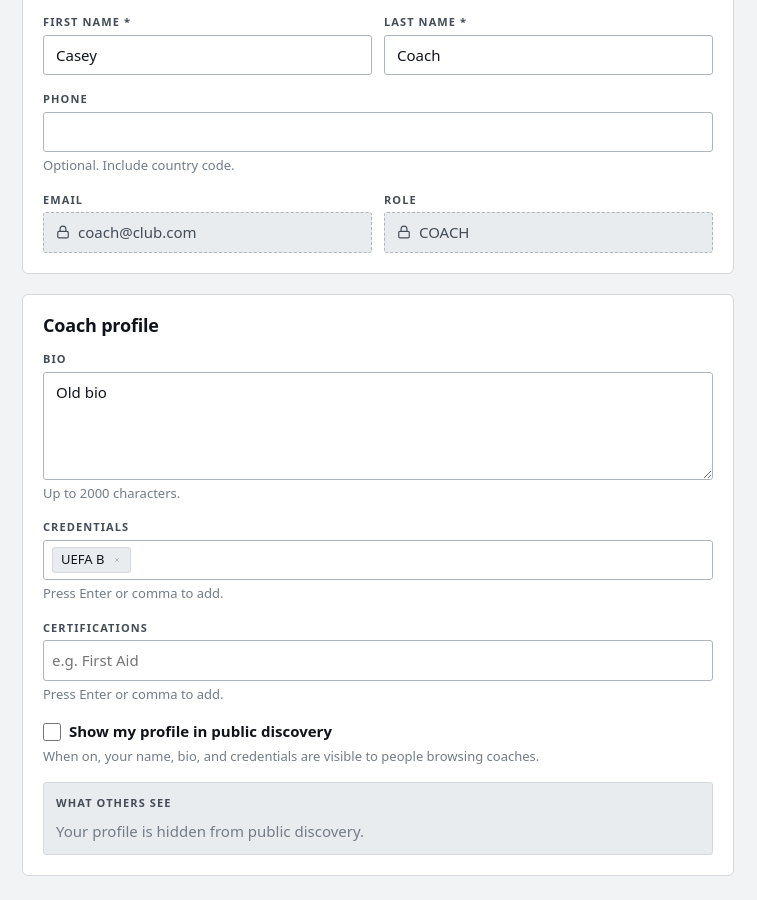
ProfileSettings (FR-038 role-shaped, FR-032 coach visibility) › persists the coach public-visibility toggle (FR-032)
(page scrolled)
Click the checkbox labelled "Show my profile in public discovery" at (52, 732), box [43,722,61,740]
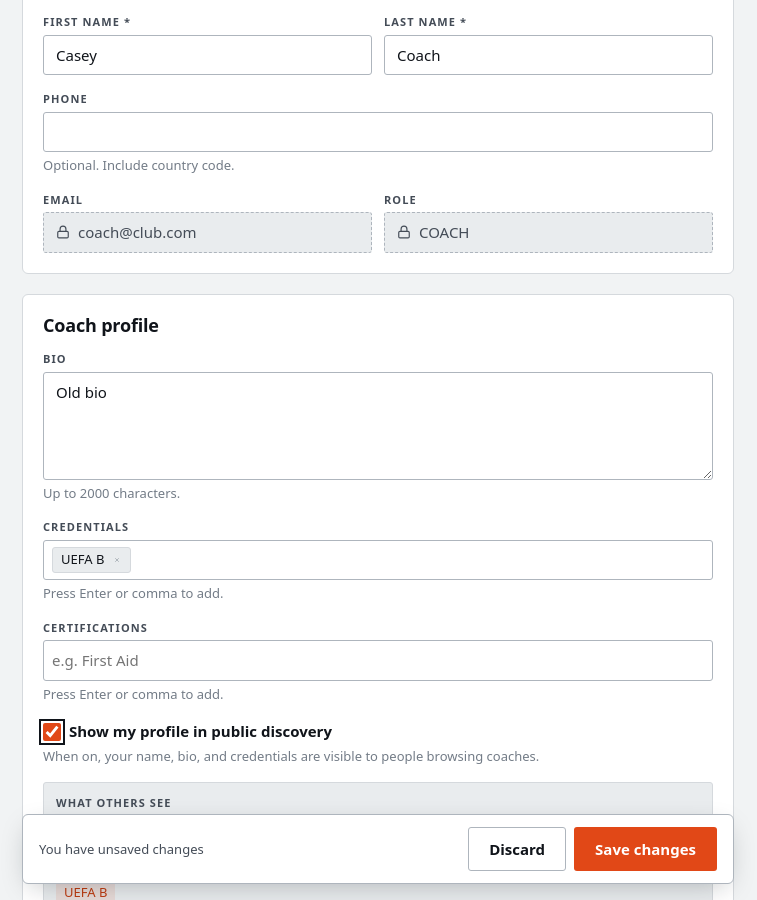
Click the button "Save changes" at (646, 849), box [574,827,717,871]
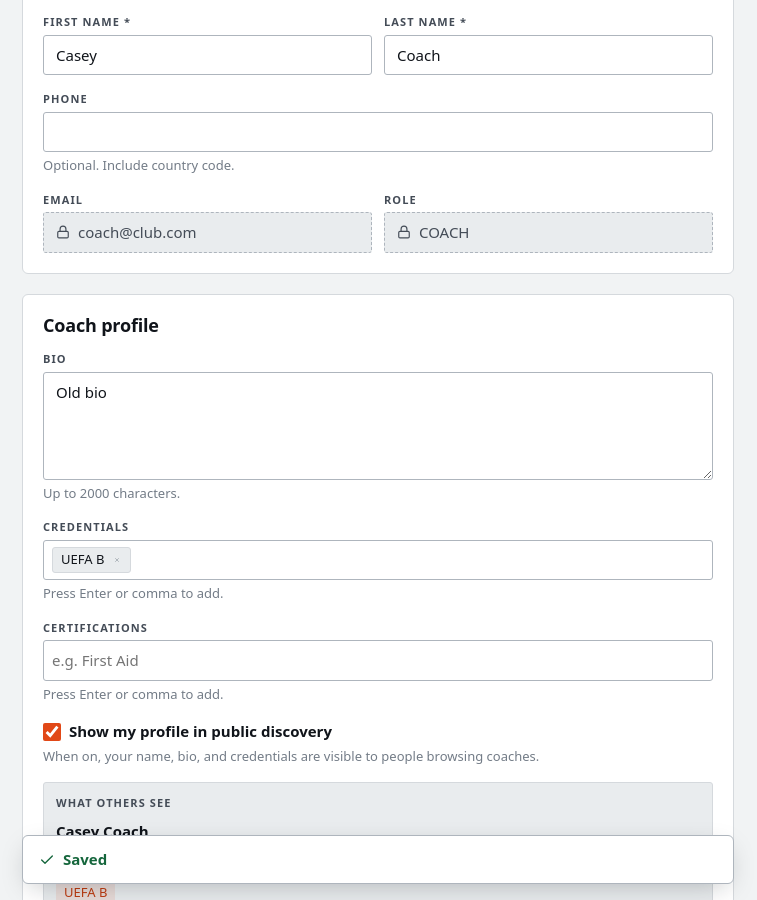
Expected: the text "Saved" is shown, [39,848,107,871]
